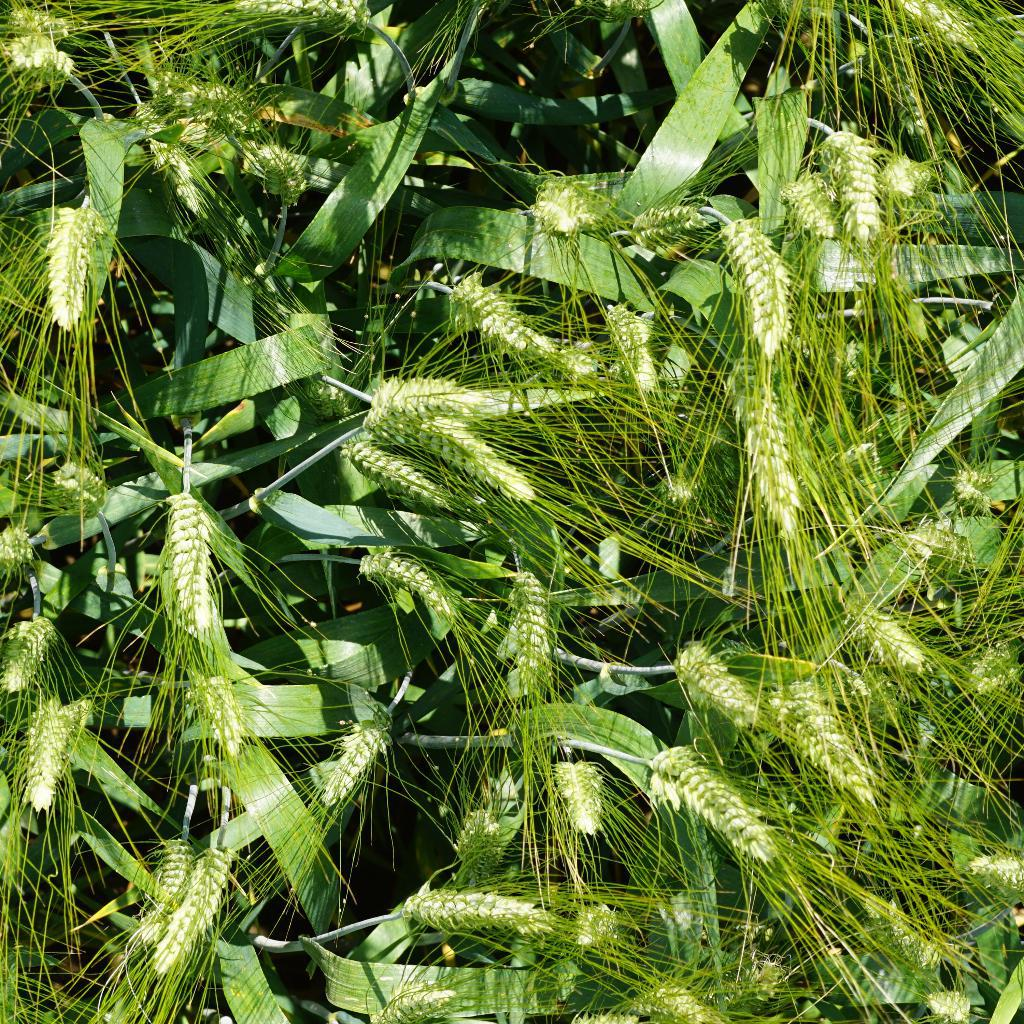0-0: (355, 387, 535, 501), (715, 350, 813, 538), (432, 277, 604, 384), (649, 733, 784, 866), (157, 826, 249, 986), (780, 665, 882, 803), (370, 363, 583, 429), (385, 870, 555, 945), (152, 479, 231, 636), (333, 428, 473, 515), (818, 0, 994, 66), (727, 219, 808, 354), (131, 94, 212, 221), (832, 587, 937, 683), (811, 118, 888, 246), (306, 699, 397, 803), (359, 550, 473, 632), (41, 190, 105, 336), (672, 630, 773, 721), (149, 67, 283, 133), (858, 26, 935, 139), (180, 661, 265, 759), (17, 683, 74, 822), (862, 889, 952, 975), (497, 556, 560, 675), (608, 292, 671, 407), (887, 513, 985, 583), (0, 608, 70, 703), (527, 172, 608, 254), (636, 971, 755, 1024), (3, 18, 92, 86), (546, 746, 609, 840), (134, 815, 198, 907), (870, 139, 943, 216), (645, 455, 716, 530), (51, 447, 115, 529), (443, 791, 512, 864), (911, 975, 1012, 1024), (235, 0, 376, 33), (968, 619, 1024, 702), (638, 187, 703, 256), (815, 428, 885, 492), (376, 976, 467, 1024), (257, 139, 320, 206), (0, 501, 45, 589), (0, 0, 86, 45), (945, 457, 1009, 515), (964, 836, 1024, 896), (743, 942, 804, 1000), (788, 164, 834, 238), (572, 897, 632, 953), (834, 328, 879, 400), (722, 0, 827, 30), (856, 662, 906, 722), (661, 897, 725, 942), (579, 0, 657, 28)
